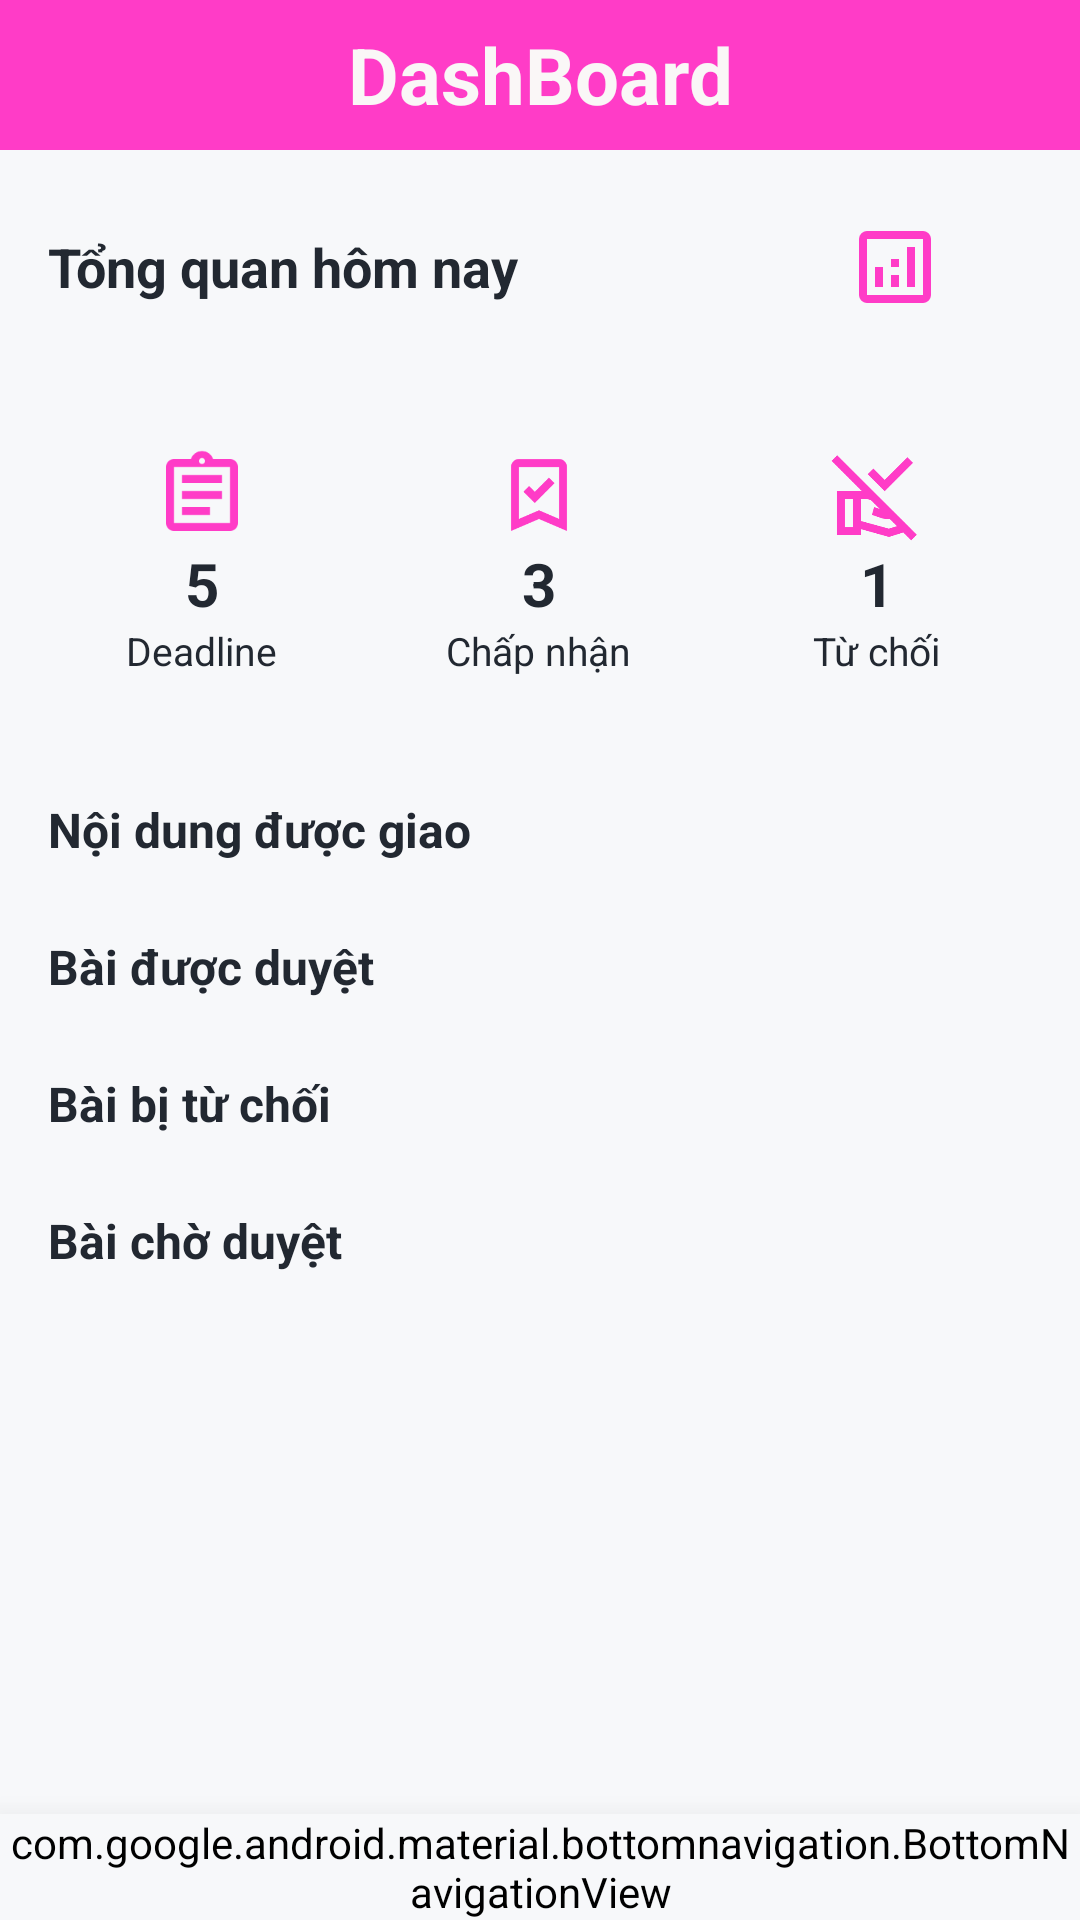

Named icons in this screenshot (1080 × 1920) and their bounding boxes, detection(x1, y1, x2, y2):
check: detection(511, 459, 567, 531)
reject: detection(832, 455, 917, 540)
